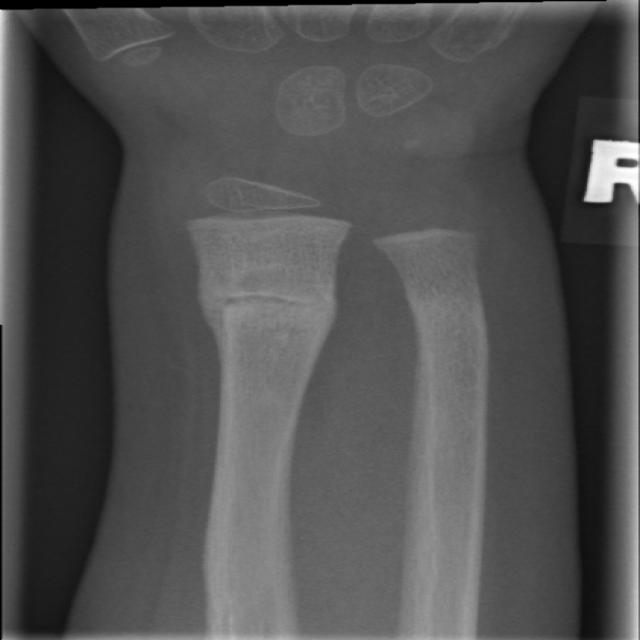radius fracture: (162, 250, 360, 406)
